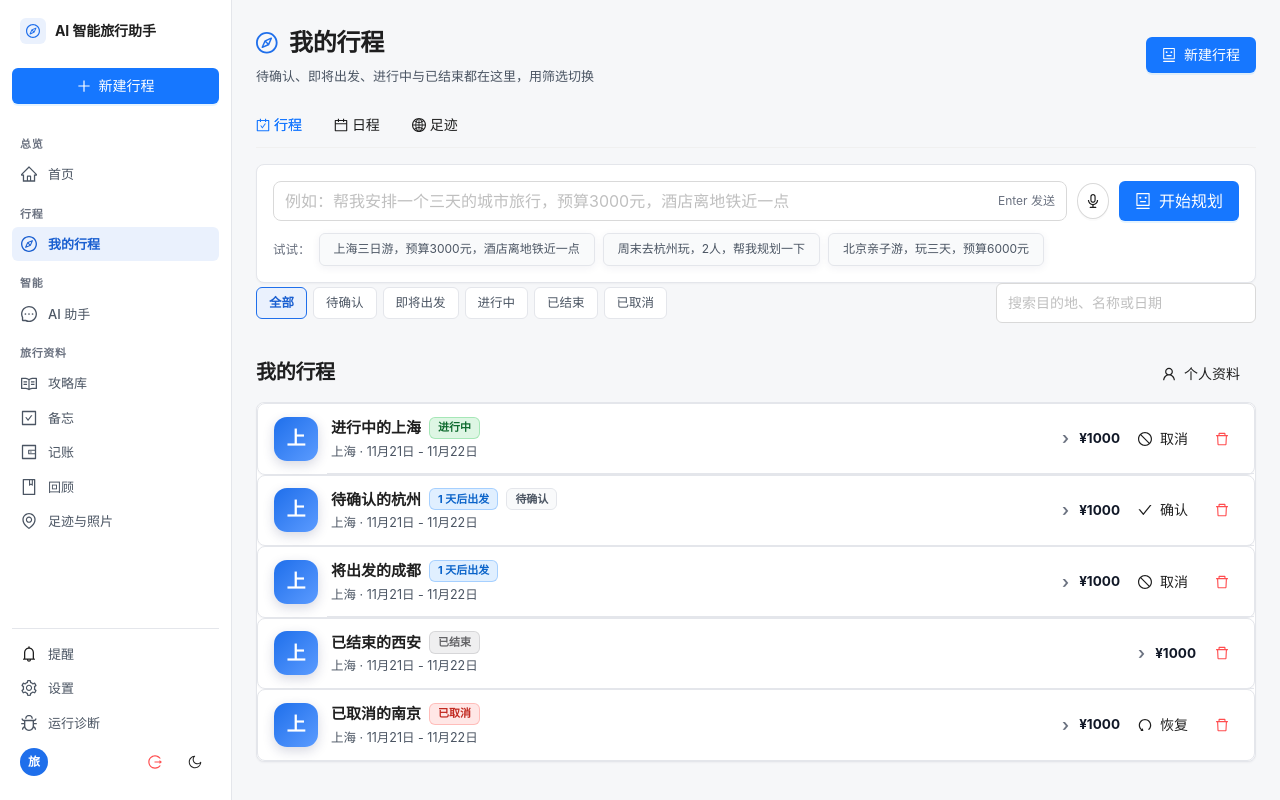
Test case: Travel · 我的行程（筛选 / 搜索 / 分页，阶段 B） › 状态筛选只显示该状态的行程
Click the button "已结束" at (566, 303), box [534,287,598,319]
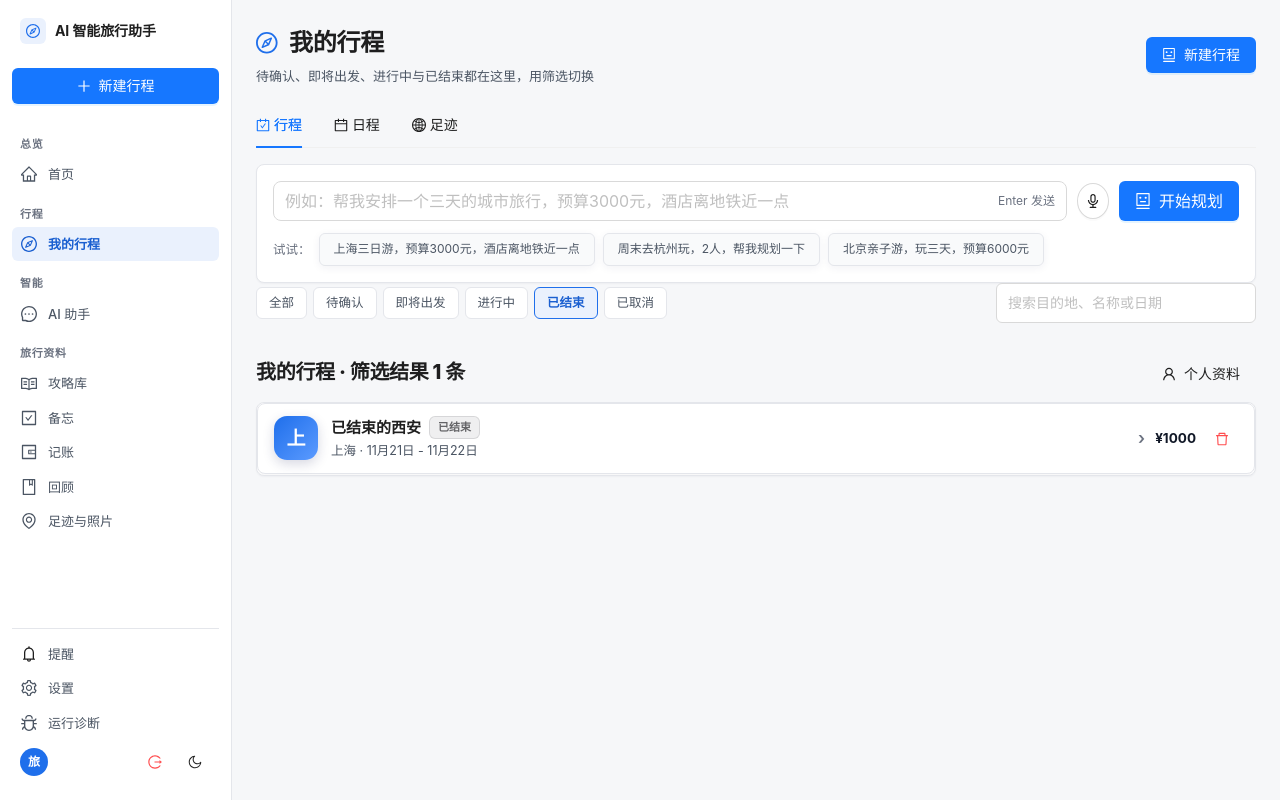
expect the text "已结束的西安" is shown: met, box [331,416,421,440]
expect the button "进行中的上海" is gone: met
expect the button "已取消的南京" is gone: met
